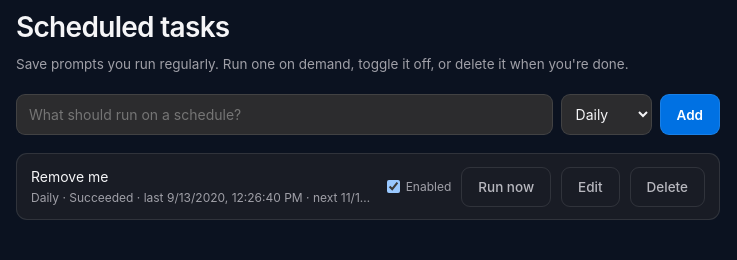
ScheduledView › deletes a task via delete_scheduled
The image size is (737, 260).
Expected: the text "Remove me" is shown, [31,168,108,185]
Click the button "Delete".
click(667, 187)  # box [630,167,705,207]
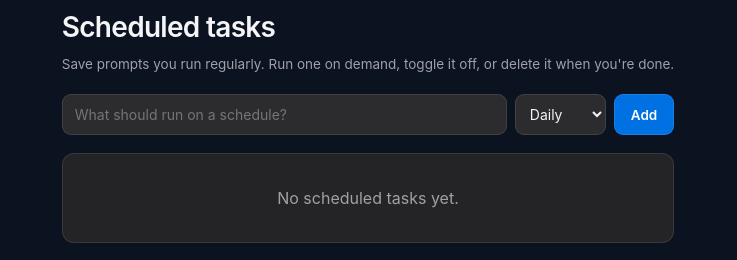
Now the text "Remove me" is gone
